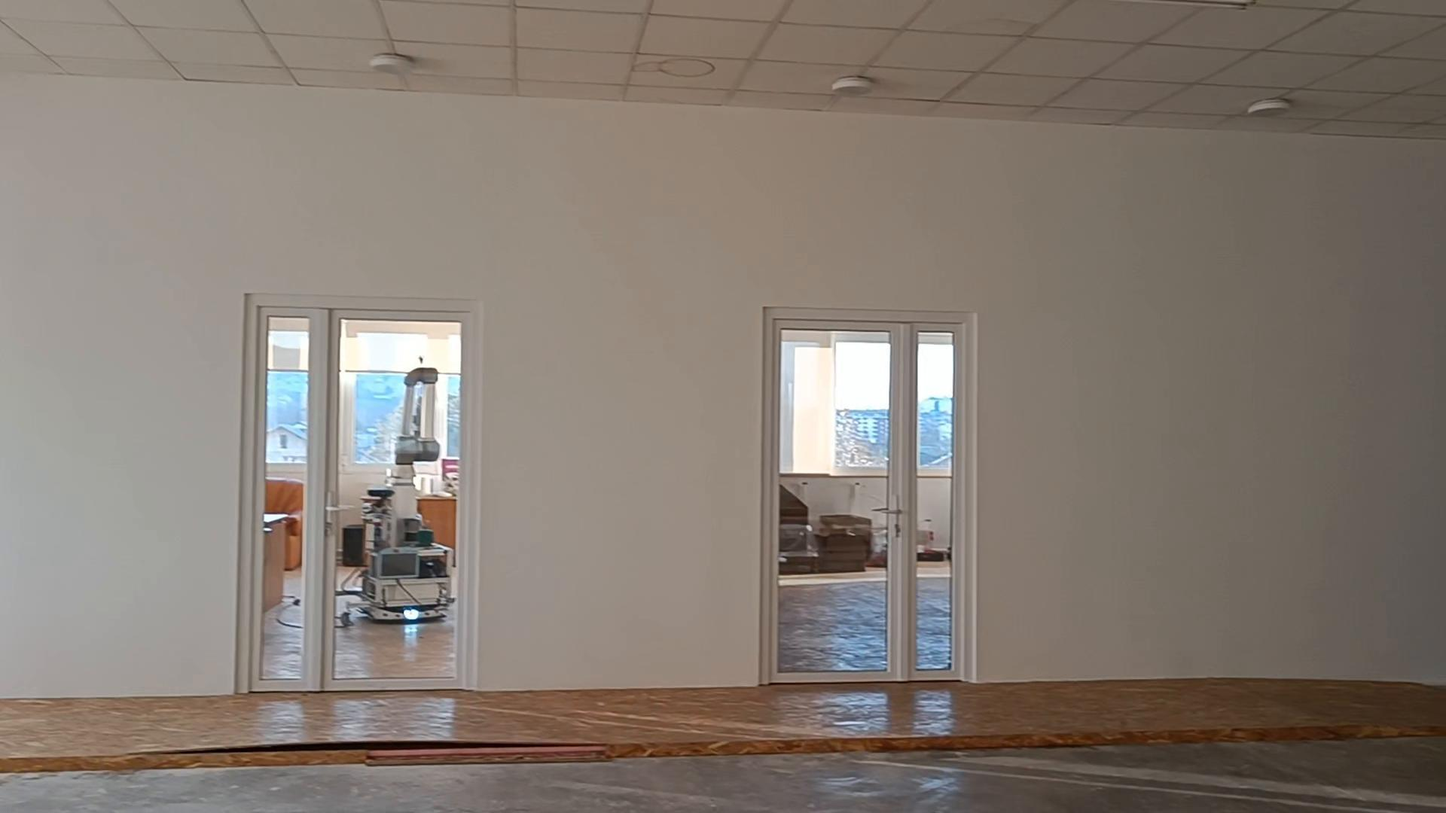ceiling: (0, 3, 1445, 137)
floor: (0, 679, 1445, 812)
wall: (0, 85, 1445, 681), (0, 680, 1445, 812), (5, 344, 237, 694)
